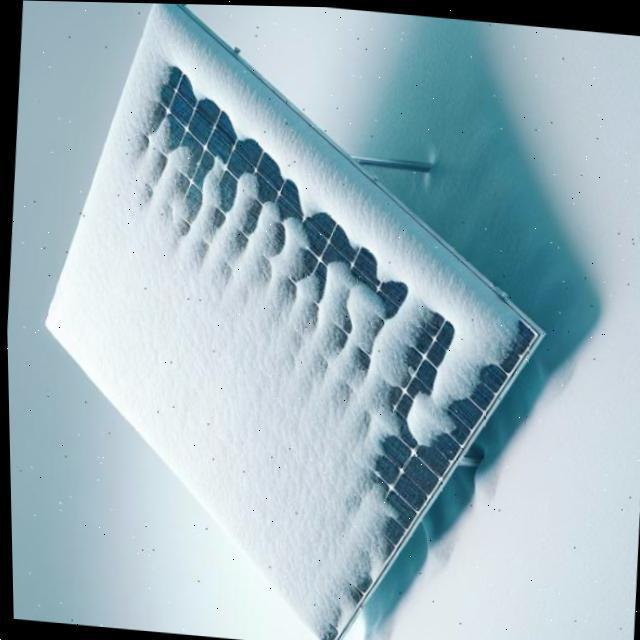Anomaly Solar Panel: (7, 2, 604, 640)
Snow: (7, 2, 594, 640)
